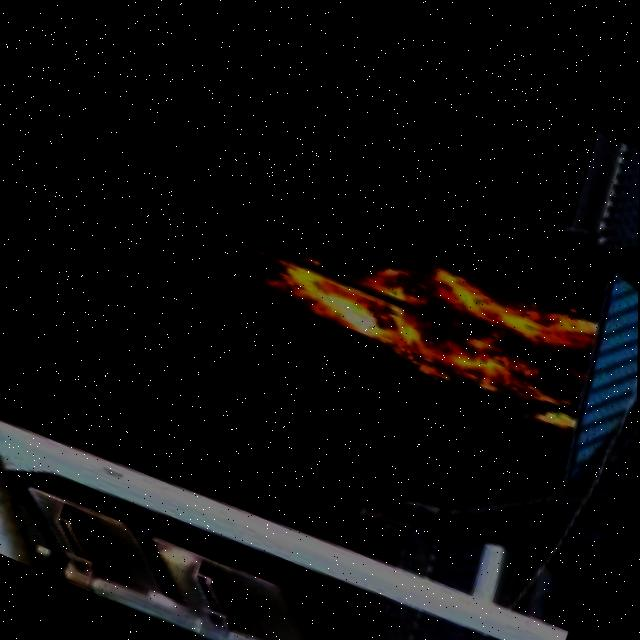Fire: (252, 187, 609, 444)
